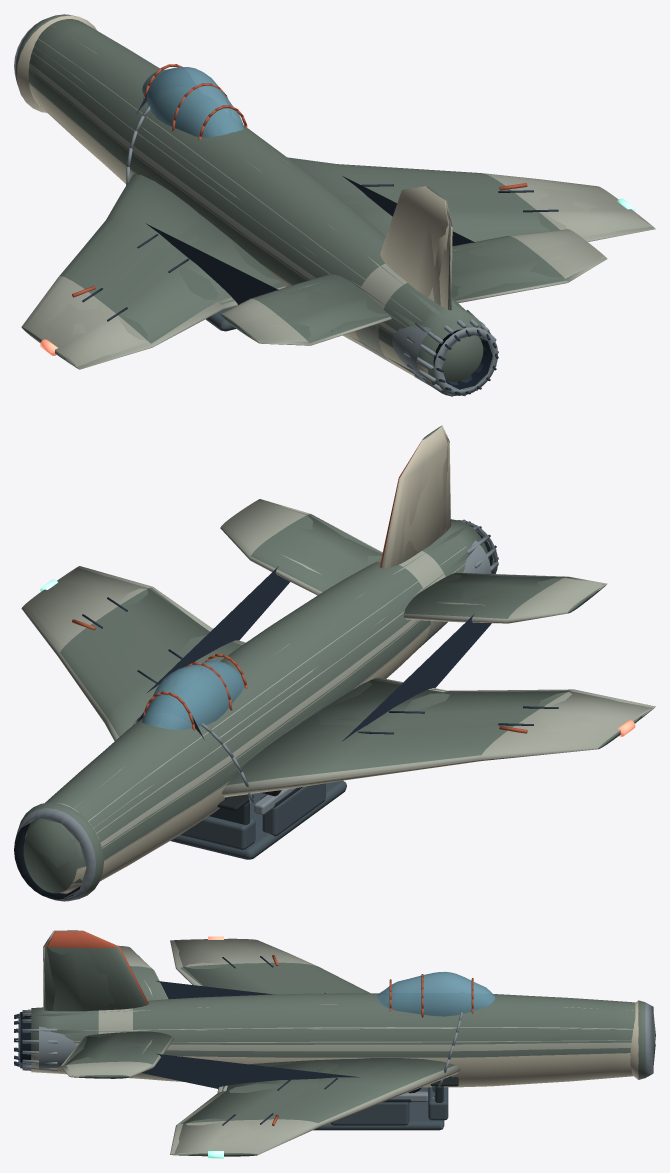
3 views of the same model, one above another, from view 1: azimuth 30°, elevation 25°; view 2: azimuth 150°, elevation 25°; view 3: azimuth 270°, elevation 25° (orthographic). The views are drawn at different scales.
Parts seen in each view (by area): view 1: Airframe shell mesh, Airframe shell.002 mesh, Airframe shell.001 mesh, Central fuselage, Canopy glass, Port wing, Aft nacelles, Canopy glass.001, Starboard wing, Hinged Aileron, Forward fuselage, Cockpit shell mesh; view 2: Airframe shell mesh, Airframe shell.002 mesh, Airframe shell.001 mesh, Cockpit shell mesh, Port wing, Canopy glass, Starboard wing, Forward fuselage, Central fuselage, Canopy glass.001, Aft nacelles; view 3: Airframe shell mesh, Airframe shell.002 mesh, Airframe shell.001 mesh, Starboard wing, Cockpit shell mesh, Canopy glass, Central fuselage, Canopy glass.001, Aft nacelles, Port wing, Forward fuselage.
Part boxes in pixels (<box>): Airframe shell mesh: <box>14,14,635,396</box>; Airframe shell.002 mesh: <box>21,14,652,395</box>; Airframe shell.001 mesh: <box>14,19,653,390</box>; Central fuselage: <box>124,67,339,277</box>; Canopy glass: <box>142,67,244,137</box>; Port wing: <box>64,223,334,364</box>; Aft nacelles: <box>299,186,530,392</box>; Canopy glass.001: <box>142,67,243,137</box>; Starboard wing: <box>342,176,649,286</box>; Hinged Aileron: <box>65,301,223,369</box>; Forward fuselage: <box>14,31,182,176</box>; Cockpit shell mesh: <box>126,106,235,331</box>; Airframe shell mesh: <box>14,434,640,901</box>; Airframe shell.002 mesh: <box>14,426,652,901</box>; Airframe shell.001 mesh: <box>17,426,654,900</box>; Cockpit shell mesh: <box>132,715,346,859</box>; Port wing: <box>308,575,649,781</box>; Canopy glass: <box>142,660,244,730</box>; Starboard wing: <box>61,499,334,733</box>; Forward fuselage: <box>14,692,216,899</box>; Central fuselage: <box>111,598,400,817</box>; Canopy glass.001: <box>142,661,242,730</box>; Aft nacelles: <box>279,425,528,675</box>; Airframe shell mesh: <box>14,931,655,1158</box>; Airframe shell.002 mesh: <box>18,931,653,1155</box>; Airframe shell.001 mesh: <box>18,931,653,1156</box>; Starboard wing: <box>69,1051,411,1153</box>; Cockpit shell mesh: <box>313,1012,462,1130</box>; Canopy glass: <box>378,972,494,1016</box>; Central fuselage: <box>202,972,470,1087</box>; Canopy glass.001: <box>381,972,493,1015</box>; Aft nacelles: <box>18,930,202,1080</box>; Port wing: <box>138,939,273,999</box>; Forward fuselage: <box>471,978,655,1080</box>.
Size of the model in its own units: 8.69 by 3.33 by 10.84.
